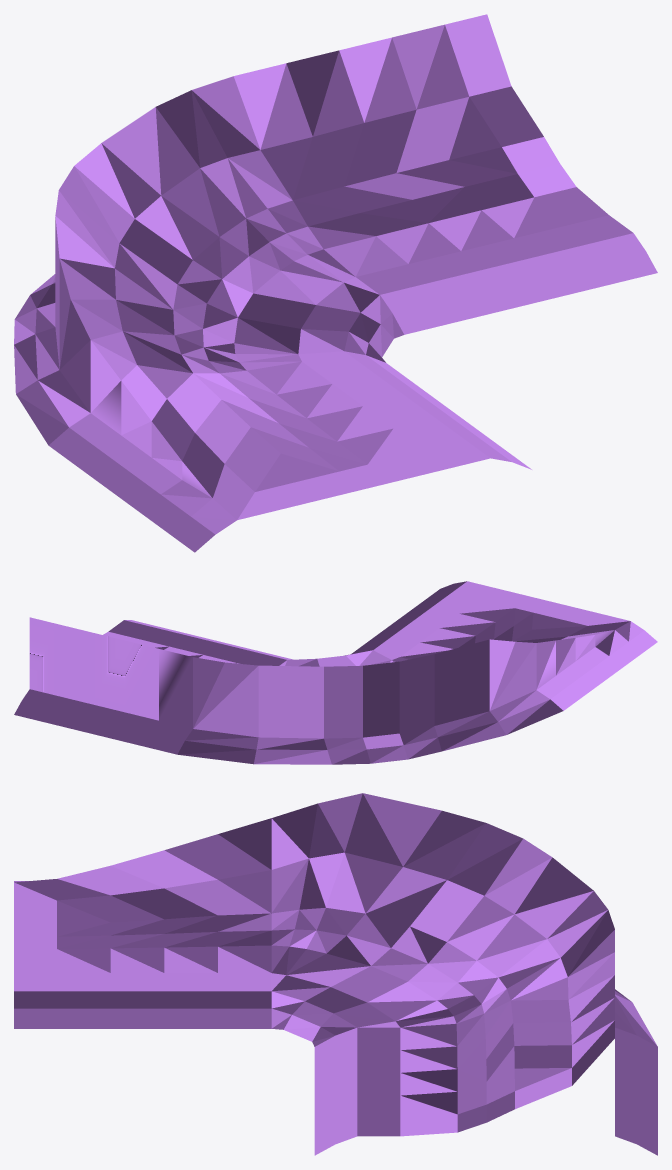
File: RaceTrack15.glb
3 renders of one model, top to bottom at view 1: azimuth 30°, elevation 25°; view 2: azimuth 150°, elevation 25°; view 3: azimuth 270°, elevation 25°, orthographic. The views are drawn at different scales.
Size of the model in its own units: 15 by 3.02 by 15.
